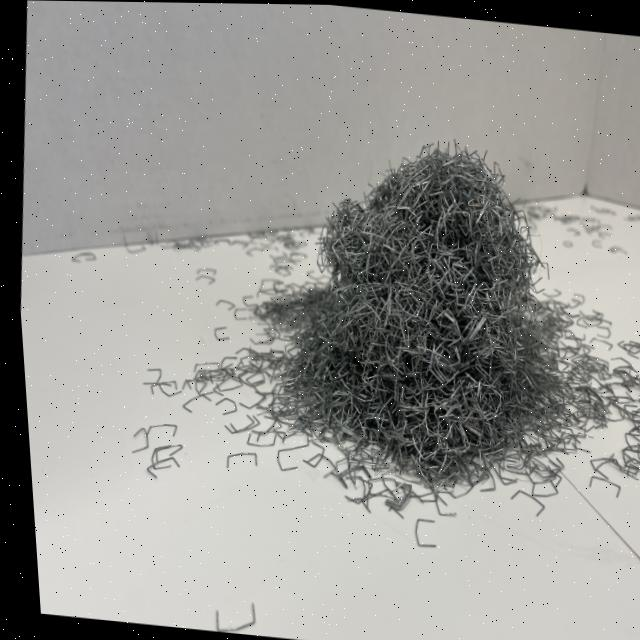staples: (242, 118, 598, 494)
